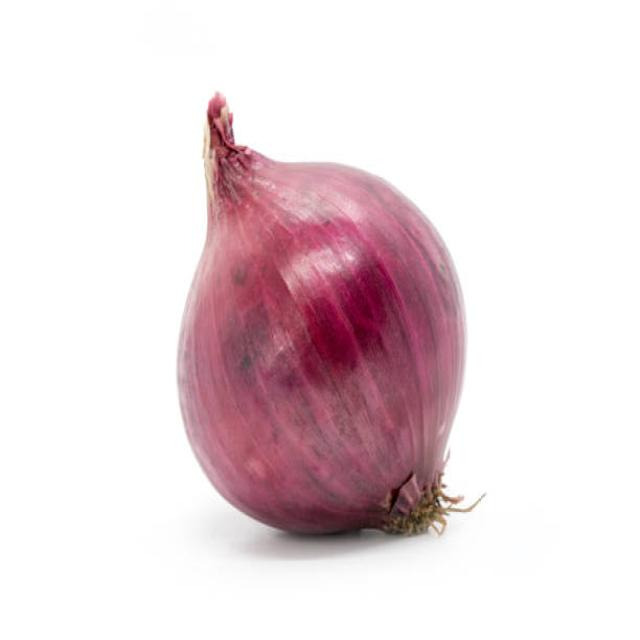onion: (168, 156, 470, 540)
